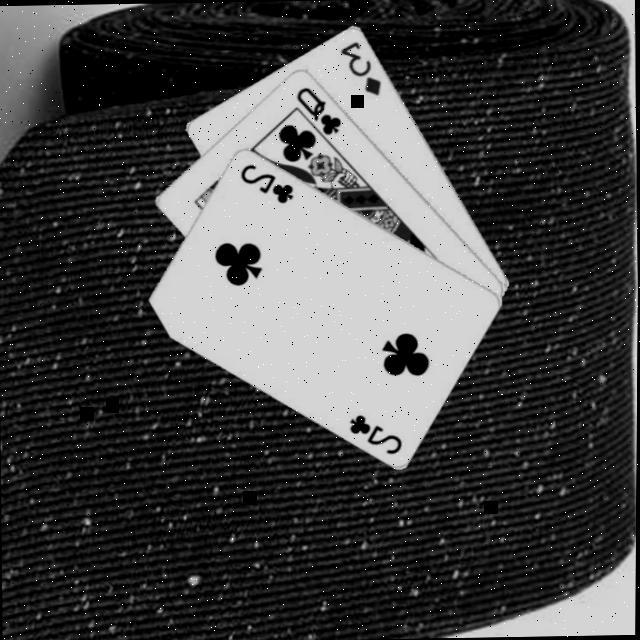2C: (237, 160, 296, 208), (347, 411, 406, 459)
3D: (337, 38, 385, 100)
QC: (294, 84, 344, 140)
